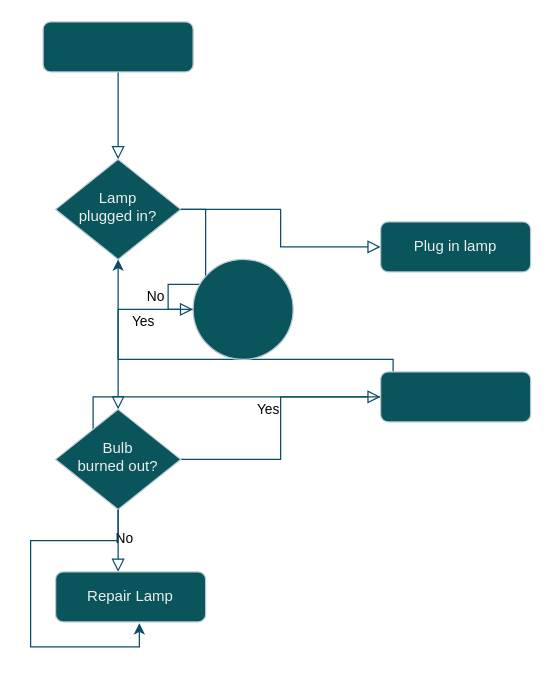
Image size: 553x679. Some labels were removed from this diagram. Here are the shapes that lost their labels. From the top down, the centre of each, then its label:
the point at 117,46: bonjour
the point at 455,396: Replace Bulb
